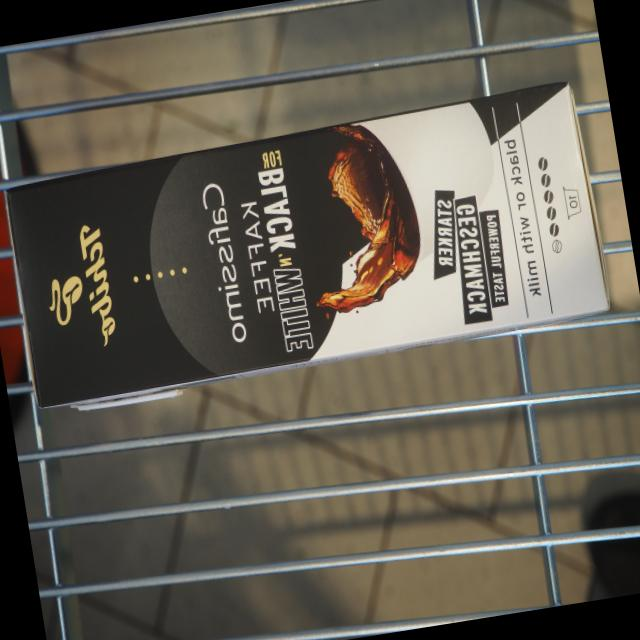Simo Kaffee BW: (0, 75, 616, 418)
